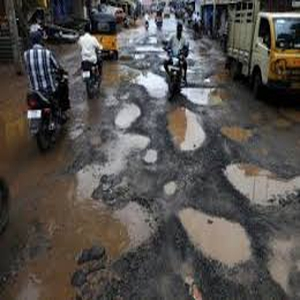pothole: (176, 203, 254, 266), (220, 158, 300, 206), (163, 104, 211, 151), (180, 84, 237, 107), (218, 123, 257, 149), (116, 99, 143, 129), (160, 177, 179, 198), (144, 147, 157, 166)
